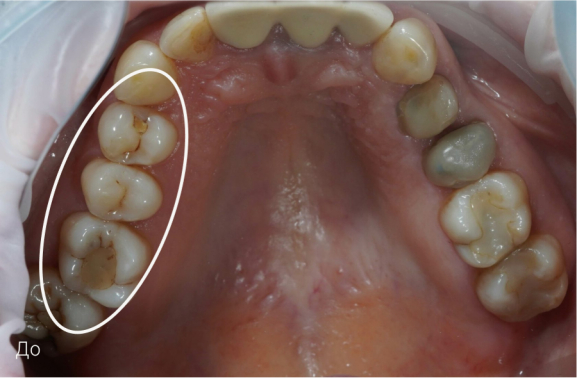UL1BC_decay: (408, 90, 456, 131)
UL1M_healthy: (451, 182, 525, 256)
UL2BC_decay: (431, 128, 497, 179)
UL2M_healthy: (485, 240, 564, 317)
ULCI_healthy: (276, 1, 336, 45)
ULC_healthy: (376, 25, 433, 85)
ULLI_healthy: (334, 4, 385, 46)
UR1BC_decay: (103, 105, 177, 162)
UR1M_decay: (61, 225, 132, 288)
UR2BC_decay: (87, 168, 156, 222)
URCI_healthy: (209, 3, 273, 48)
URC_healthy: (126, 78, 168, 106)
URLI_healthy: (164, 13, 210, 57)
